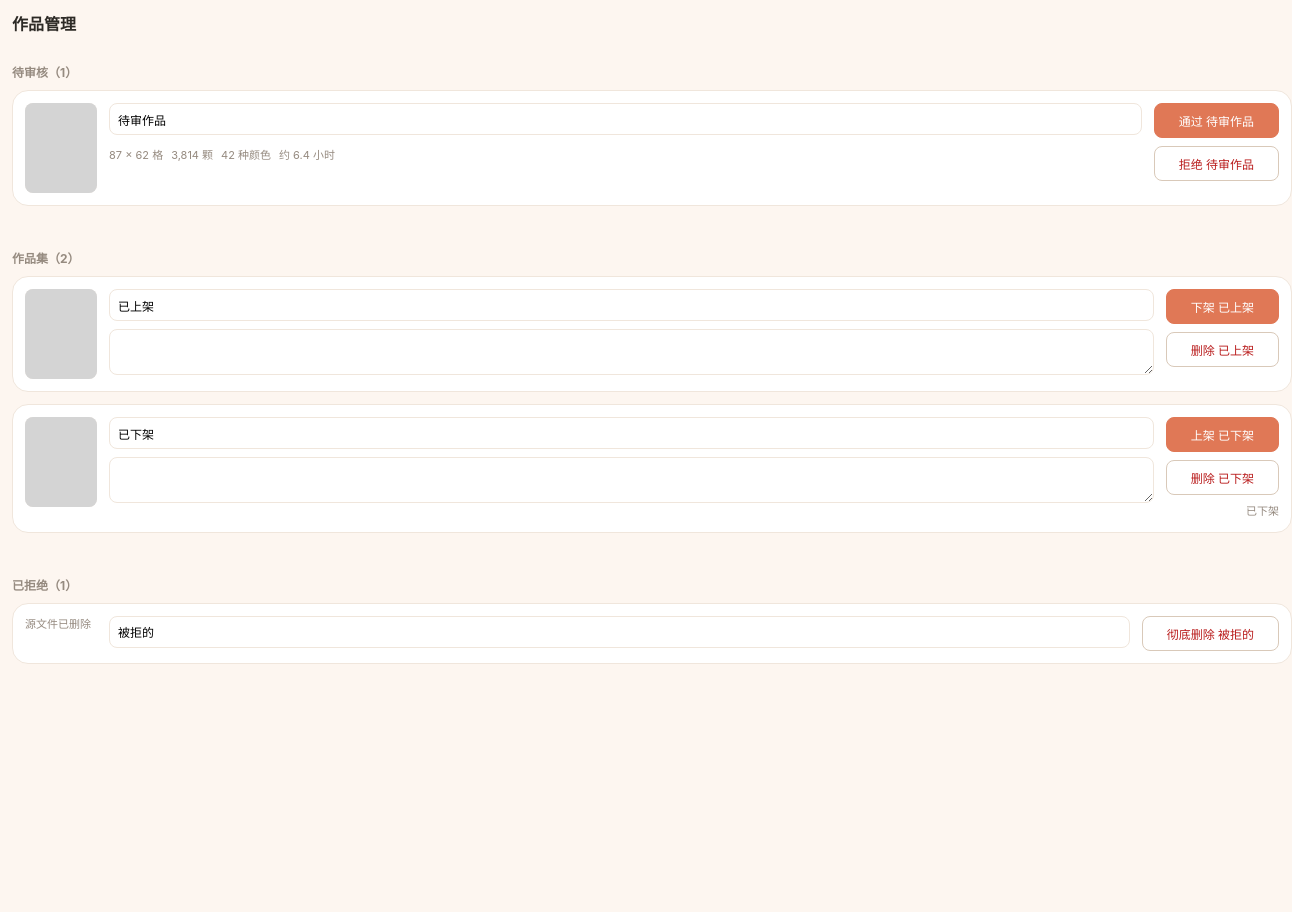
WorksTab 审核队列 › 点拒绝前必须二次确认，确认后行离开待审核区
Click the button "拒绝 待审作品".
click(1216, 164)  # box 1154,146 -> 1279,181
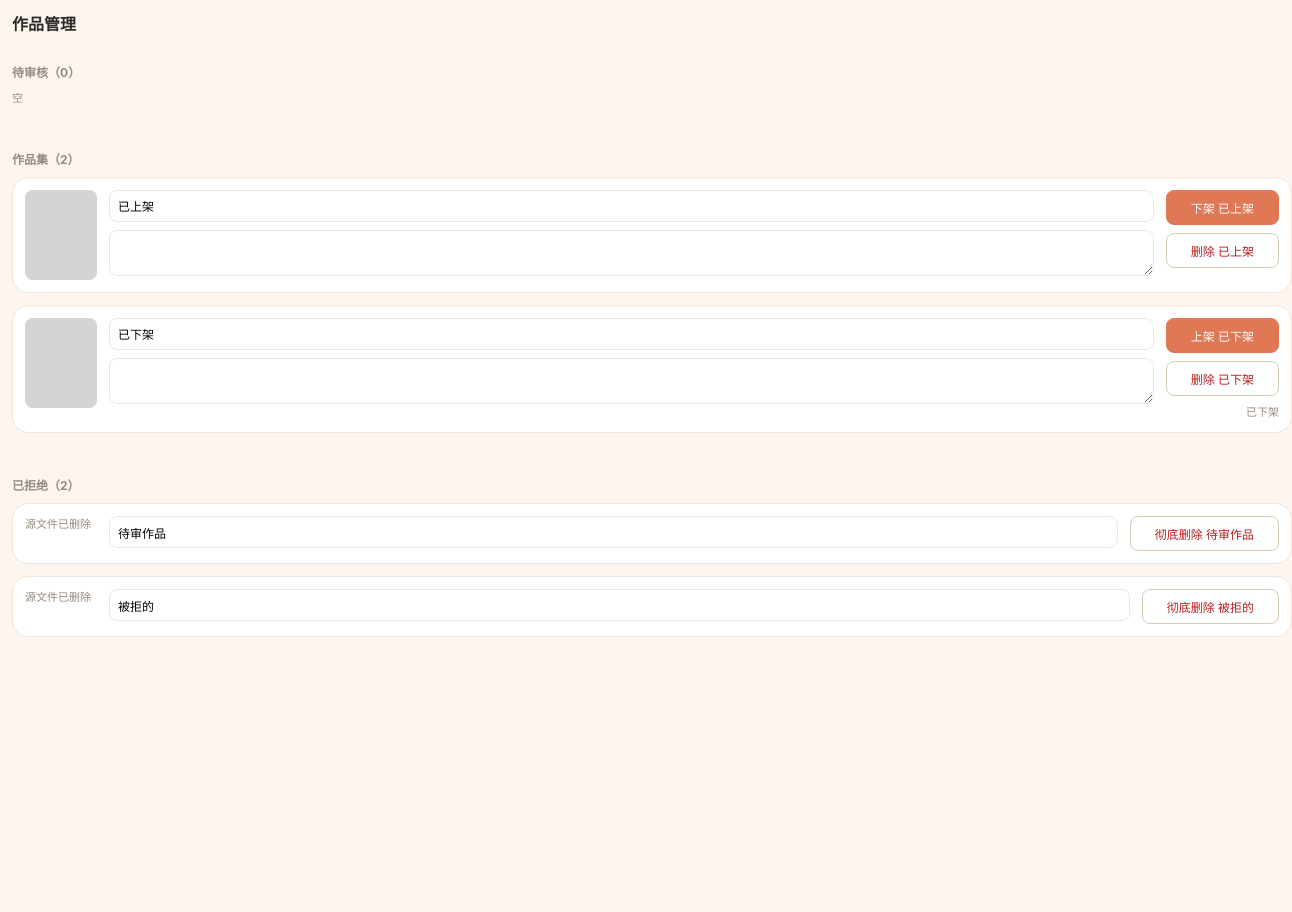
Now the button "拒绝 待审作品" is gone
Now the button "彻底删除 待审作品" is shown, box 1130,516 -> 1279,551
